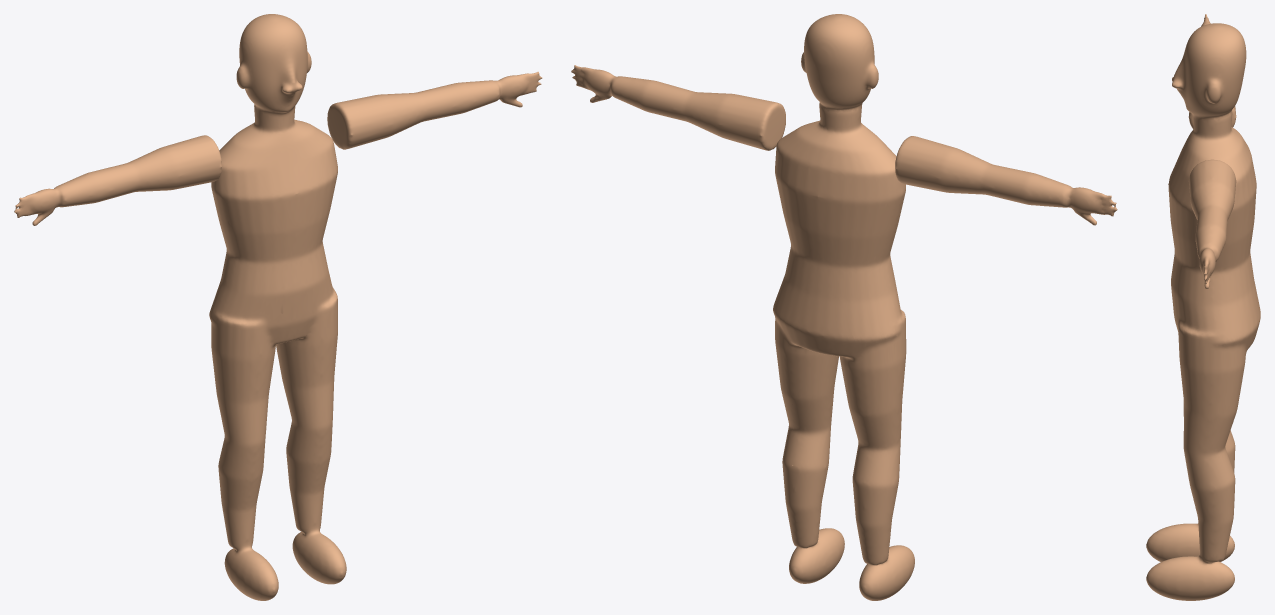
File: NPC2_BaseFemale_TPose.fbx
3 renders of one model, left to right at view 1: azimuth 30°, elevation 25°; view 2: azimuth 150°, elevation 25°; view 3: azimuth 270°, elevation 25°, orthographic. The views are drawn at different scales.
Parts seen in each view (by area): view 1: NPC2_BaseFemale_TPose_Skin; view 2: NPC2_BaseFemale_TPose_Skin; view 3: NPC2_BaseFemale_TPose_Skin.
Part boxes in pixels (left/top/right/bottom): NPC2_BaseFemale_TPose_Skin: left=14, top=14, right=542, bottom=600; NPC2_BaseFemale_TPose_Skin: left=571, top=14, right=1117, bottom=600; NPC2_BaseFemale_TPose_Skin: left=1146, top=14, right=1260, bottom=600.
Bounding box in the file's own units: 1.8 × 1.83 × 0.341.
